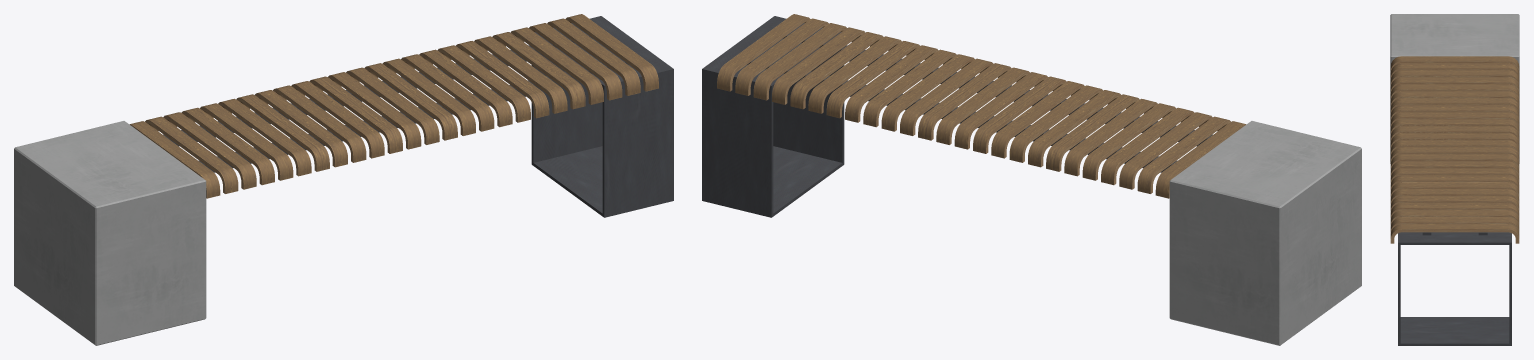
File: benchMaterials_512x1024.glb
3 renders of one model, left to right at view 1: azimuth 30°, elevation 25°; view 2: azimuth 150°, elevation 25°; view 3: azimuth 270°, elevation 25°, orthographic. The views are drawn at different scales.
Parts seen in each view (by area): view 1: benchMultimat_low; view 2: benchMultimat_low; view 3: benchMultimat_low.
Part boxes in pixels (<box>): benchMultimat_low: <box>14,14,673,345</box>; benchMultimat_low: <box>702,14,1361,345</box>; benchMultimat_low: <box>1390,14,1519,345</box>.
Bounding box in the file's own units: 188 × 43 × 46.
1 material, 1 textured.
